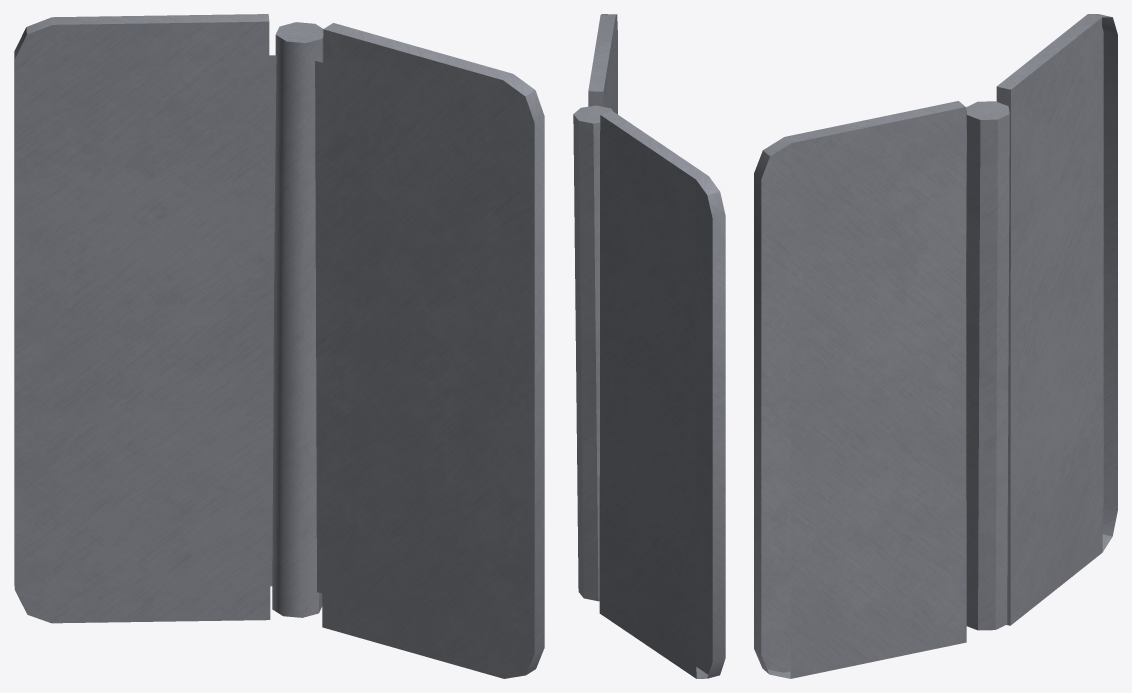
File: main_open.fbx
3 renders of one model, left to right at view 1: azimuth 30°, elevation 25°; view 2: azimuth 150°, elevation 25°; view 3: azimuth 270°, elevation 25°, orthographic. The views are drawn at different scales.
Parts seen in each view (by area): view 1: door_open2; view 2: door_open2; view 3: door_open2.
Part boxes in pixels (x1,y1,x2,y2): door_open2: (14,14,544,678); door_open2: (573,14,725,678); door_open2: (754,14,1117,678).
Bounding box in the file's own units: 0.0637 × 0.1076 × 0.0663.
